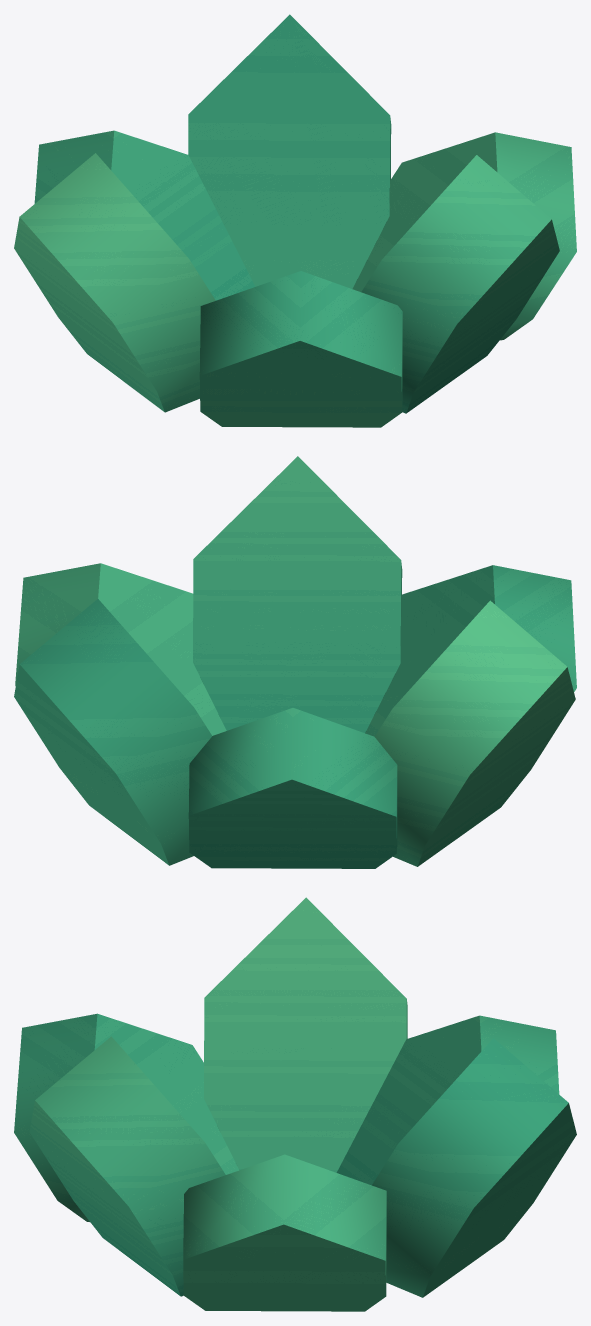
Rendered from group.007_lev2.glb.
3 renders of one model, top to bottom at view 1: azimuth 30°, elevation 25°; view 2: azimuth 150°, elevation 25°; view 3: azimuth 270°, elevation 25°, orthographic. The views are drawn at different scales.
Visible parts, largest first — view 1: group.007_lev2; view 2: group.007_lev2; view 3: group.007_lev2.
Part boxes in pixels (x1,y1,x2,y2): group.007_lev2: (14, 14, 576, 427); group.007_lev2: (14, 456, 576, 868); group.007_lev2: (14, 897, 576, 1311).
Bounding box in the file's own units: 1.24 × 0.5196 × 1.11.
Materials: 1 (1 with a texture image).
